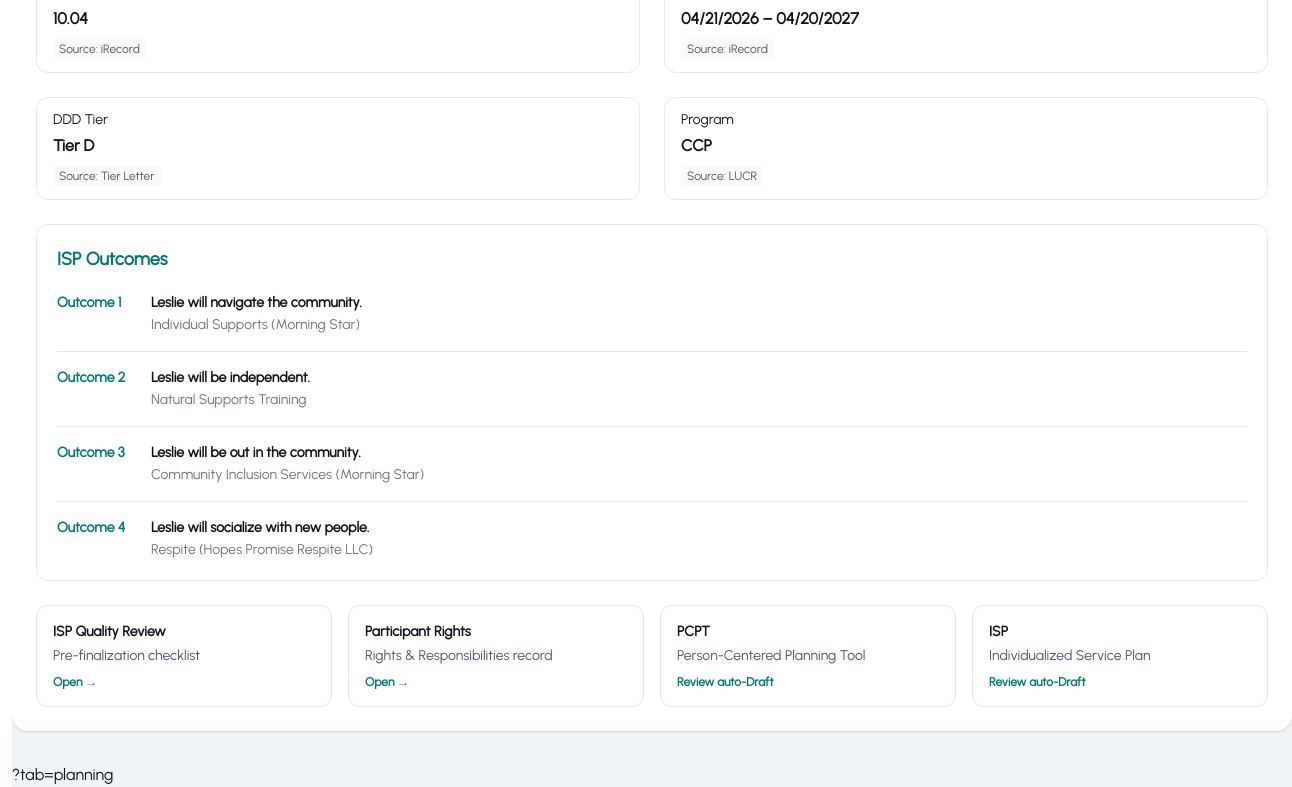
opens the single-page ISP review from Planning and returns
(page scrolled)
Click the button "ISP Individualized Service Plan Review auto-Draft": (1120, 656) [972,605,1268,707]
(page scrolled)
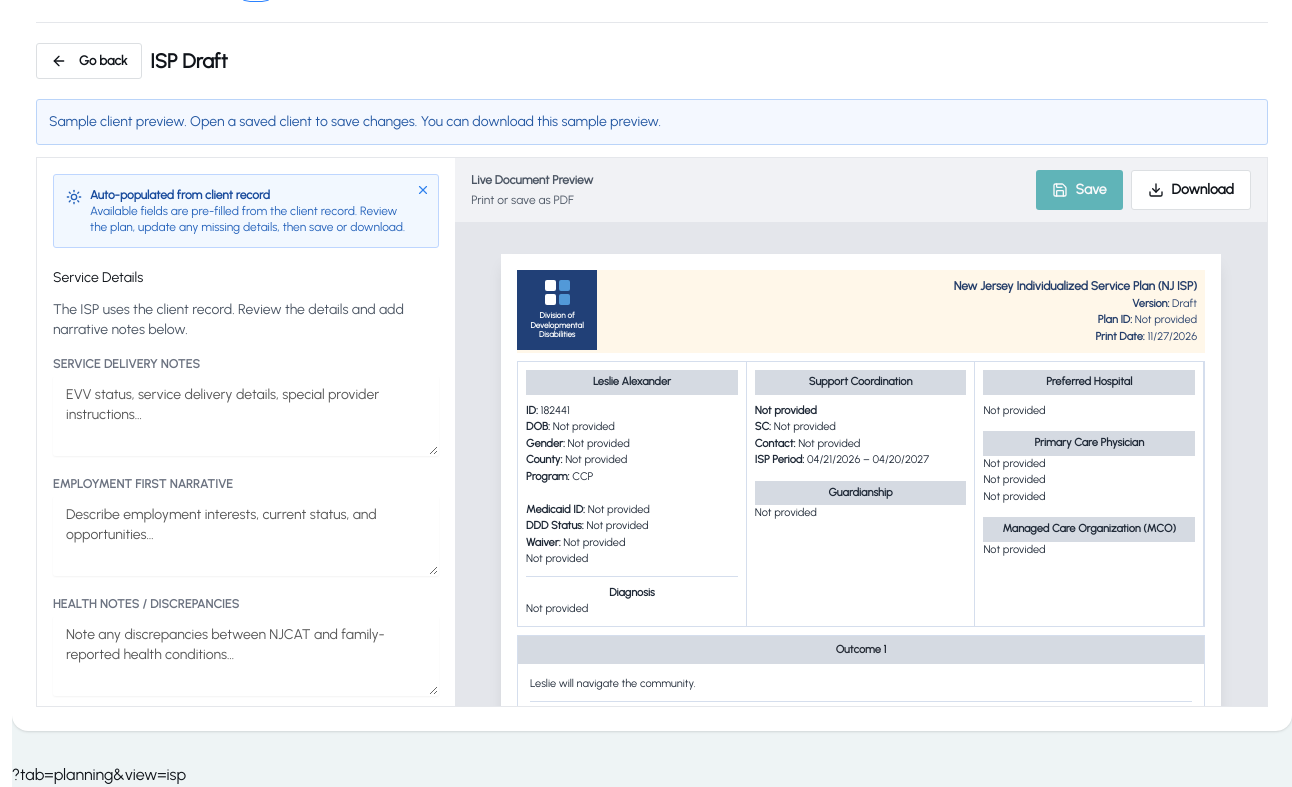
Now the heading "ISP Draft" is shown, box [150,47,228,75]
Now the button "Save" is disabled, box [1036,170,1123,210]
Now the button "Download" is enabled, box [1131,170,1251,210]
Click the link "Go back": (89, 61) [36,43,142,79]
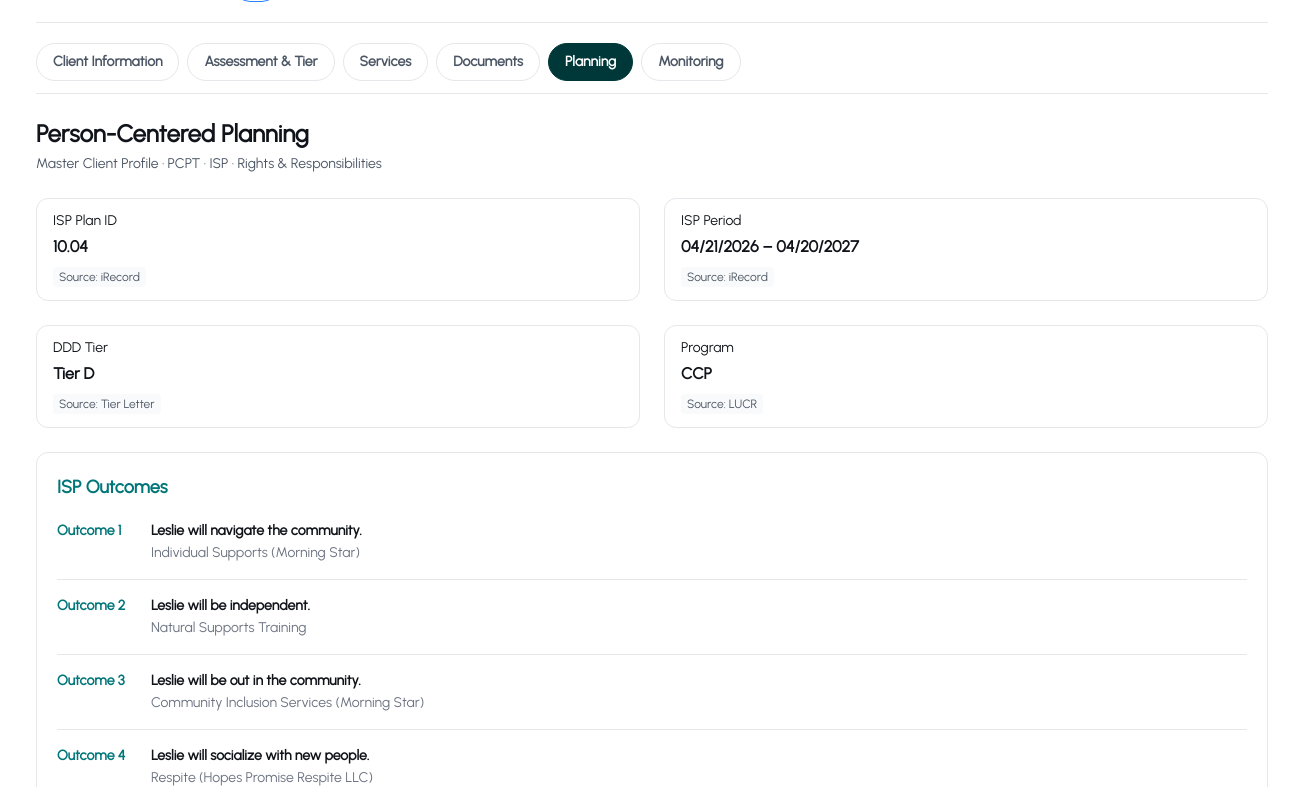
Now the heading "Person-Centered Planning" is shown, box [36,119,309,148]
